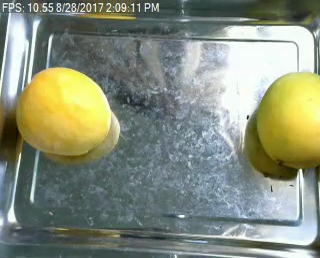Mango: (16, 67, 111, 159), (257, 71, 320, 167)
